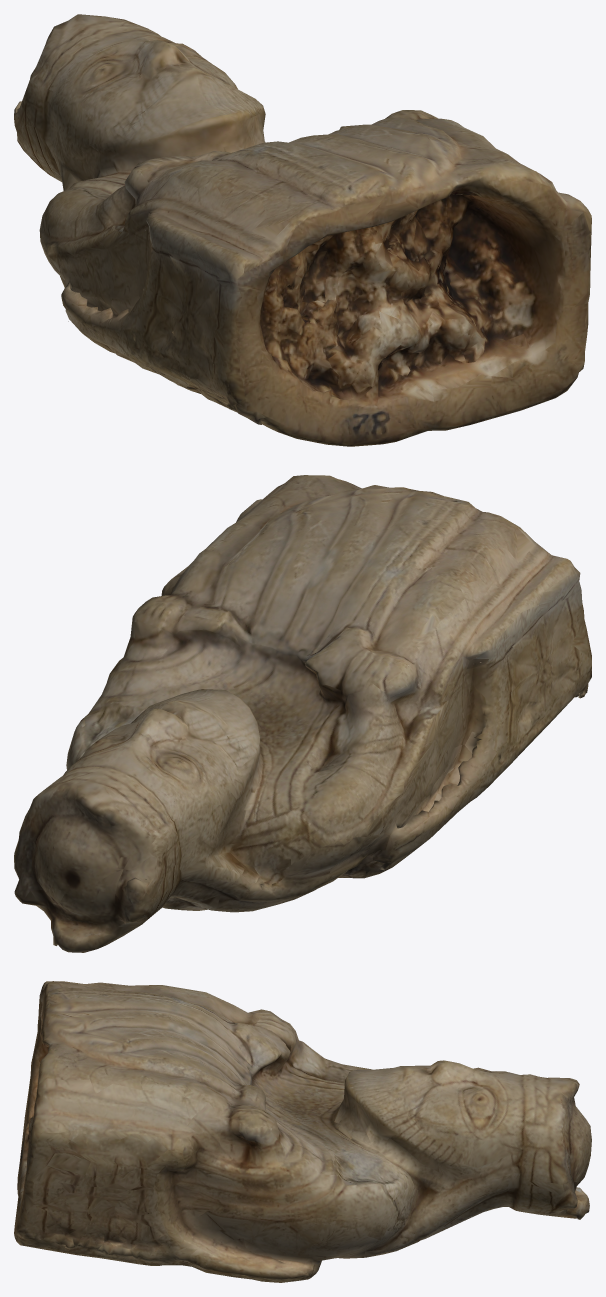
3 renders of one model, top to bottom at view 1: azimuth 30°, elevation 25°; view 2: azimuth 150°, elevation 25°; view 3: azimuth 270°, elevation 25°, orthographic. The views are drawn at different scales.
Visible parts, largest first — view 1: king_2_lewisKing82; view 2: king_2_lewisKing82; view 3: king_2_lewisKing82.
Boxes of the visible parts, left/top/right/bottom form: king_2_lewisKing82: left=14, top=14, right=591, bottom=446; king_2_lewisKing82: left=14, top=475, right=591, bottom=952; king_2_lewisKing82: left=14, top=981, right=591, bottom=1282.
Size of the model in its own units: 0.9343 by 0.7051 by 1.64.
1 material, 1 textured.
